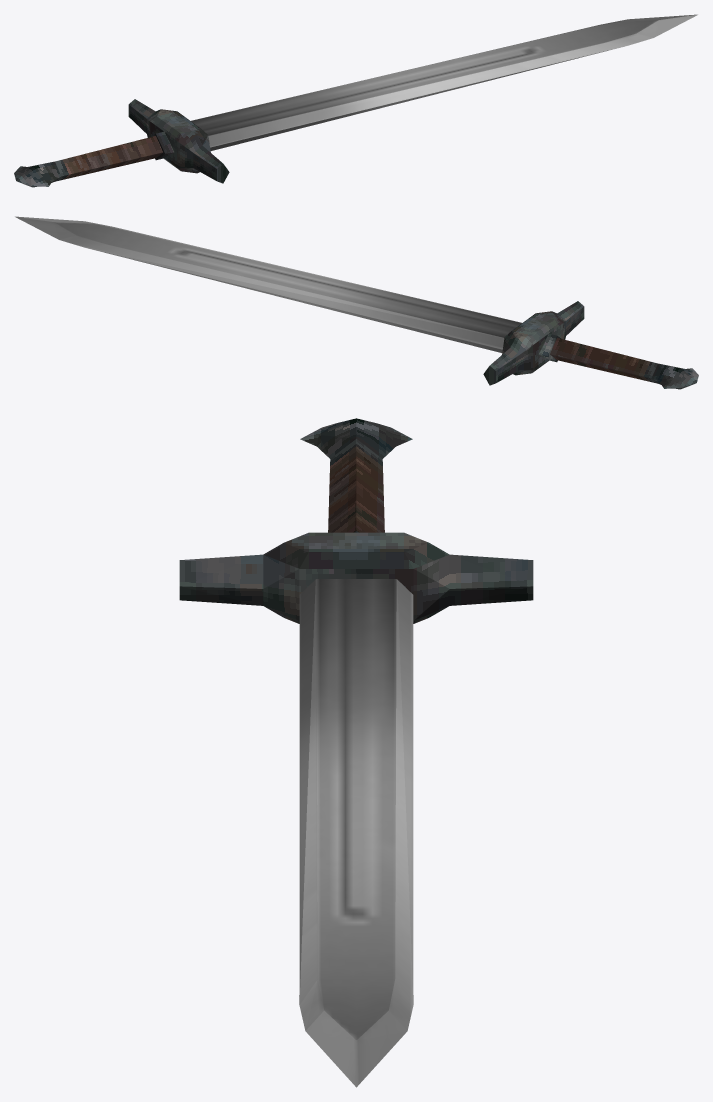
Rendered from ordonsword.obj.
3 views of the same model, one above another, from view 1: azimuth 30°, elevation 25°; view 2: azimuth 150°, elevation 25°; view 3: azimuth 270°, elevation 25° (orthographic). The views are drawn at different scales.
Parts seen in each view (by area): view 1: n0b1, n1b0; view 2: n0b1, n1b0; view 3: n0b1, n1b0.
Boxes of the visible parts, box(x1,y1,x2,y2) form: n0b1: box(191, 14, 697, 150); n1b0: box(14, 99, 229, 187); n0b1: box(15, 216, 521, 352); n1b0: box(483, 301, 698, 389); n0b1: box(299, 579, 413, 1087); n1b0: box(179, 418, 533, 623).
Bounding box in the file's own units: 122 × 6.42 × 27.37.
Materials: 2 (2 with a texture image).
